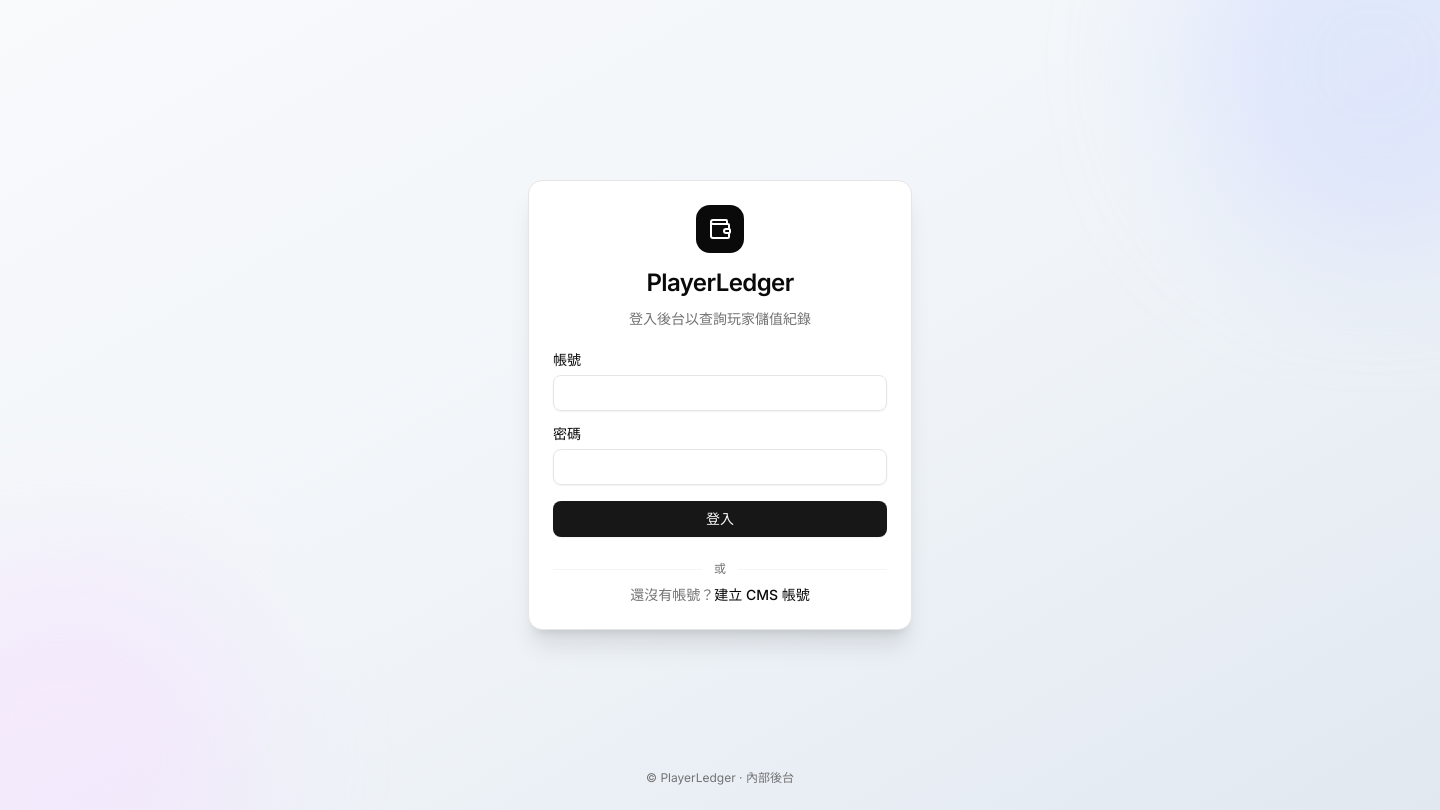
Test case: LoginPage › should render a network-error alert when fetch rejects
The image size is (1440, 810).
In the field labelled "帳號": (720, 393) x1=553 y1=375 x2=887 y2=411, type "alice"
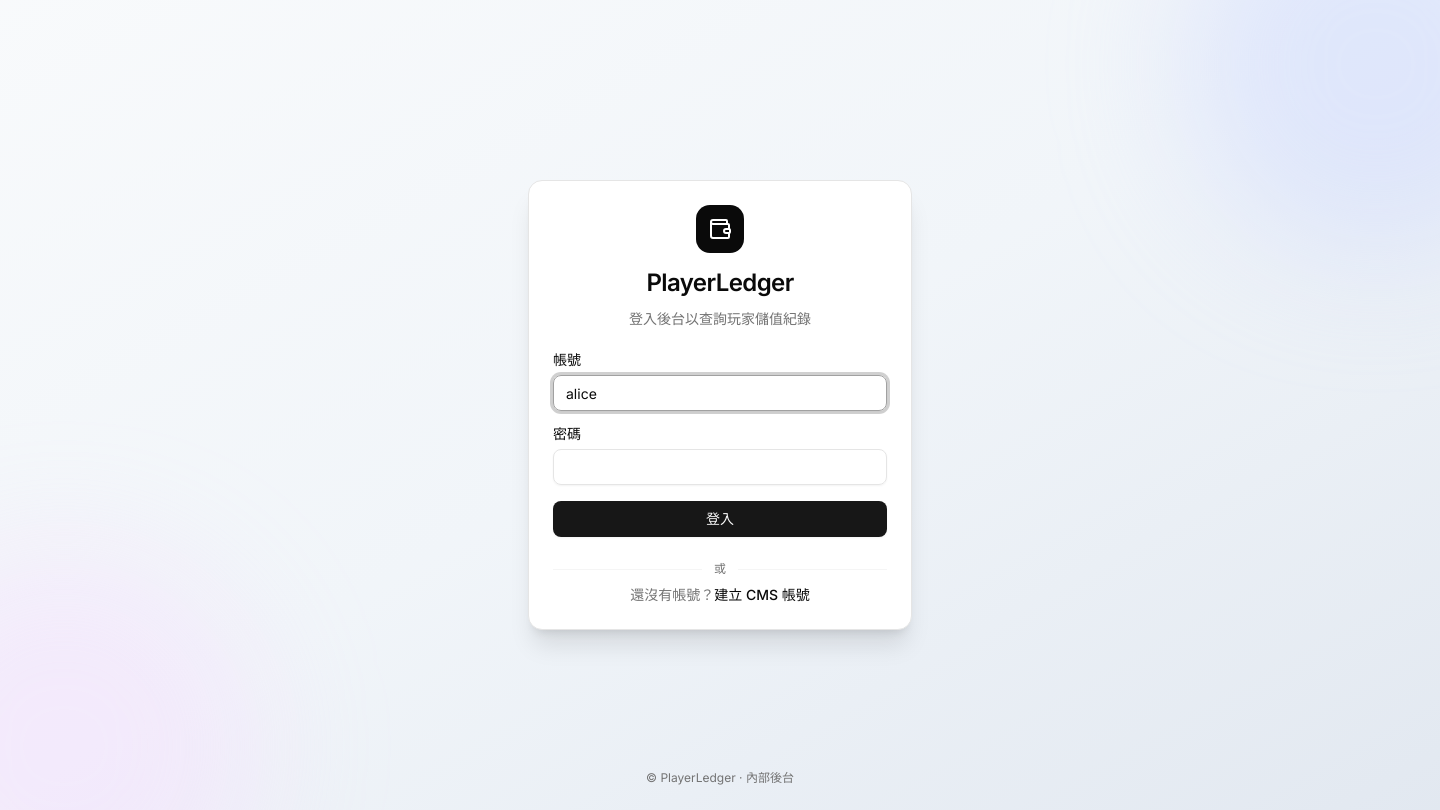
In the password field labelled "密碼": (720, 467) x1=553 y1=449 x2=887 y2=485, type "secret"
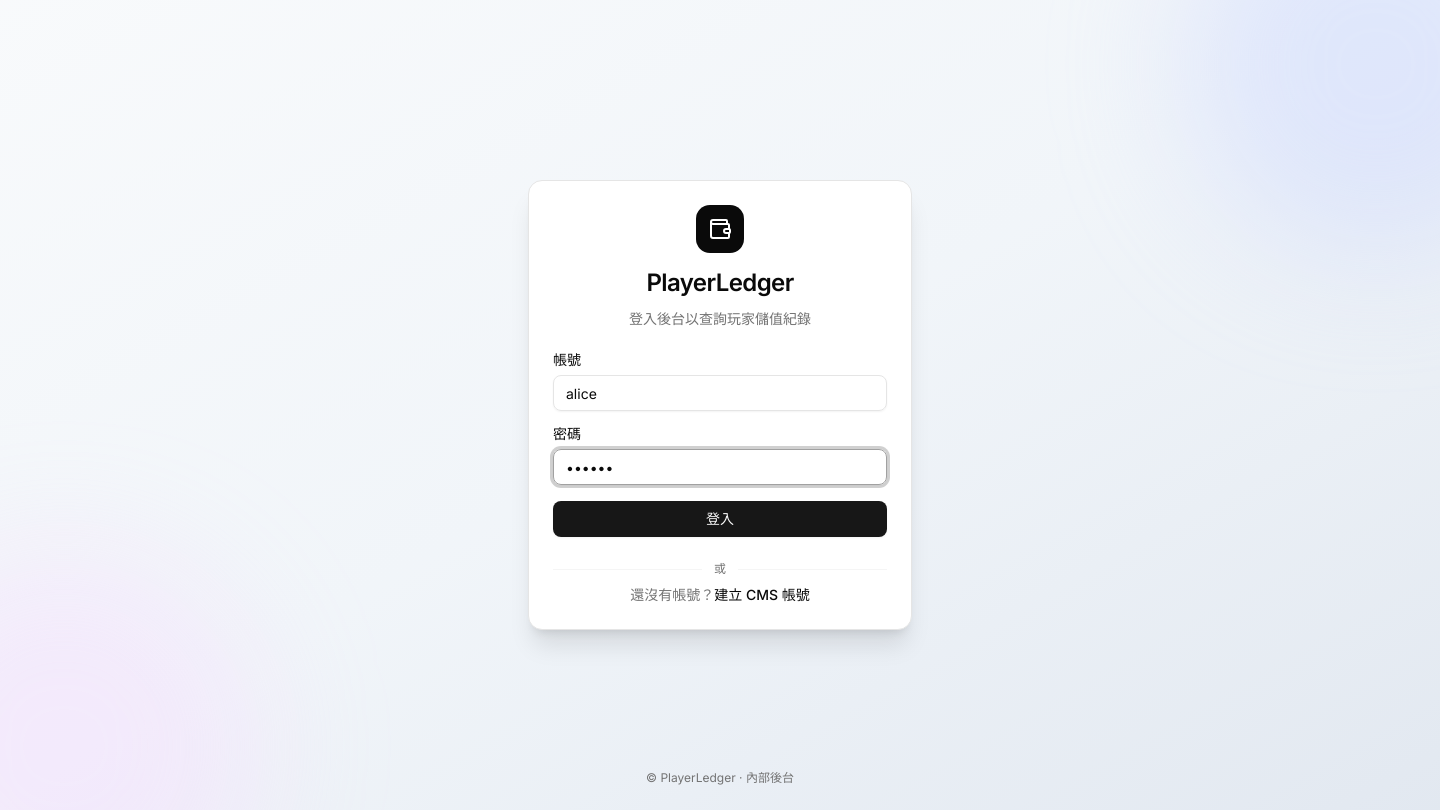
Click the button "登入": (720, 519) x1=553 y1=501 x2=887 y2=537
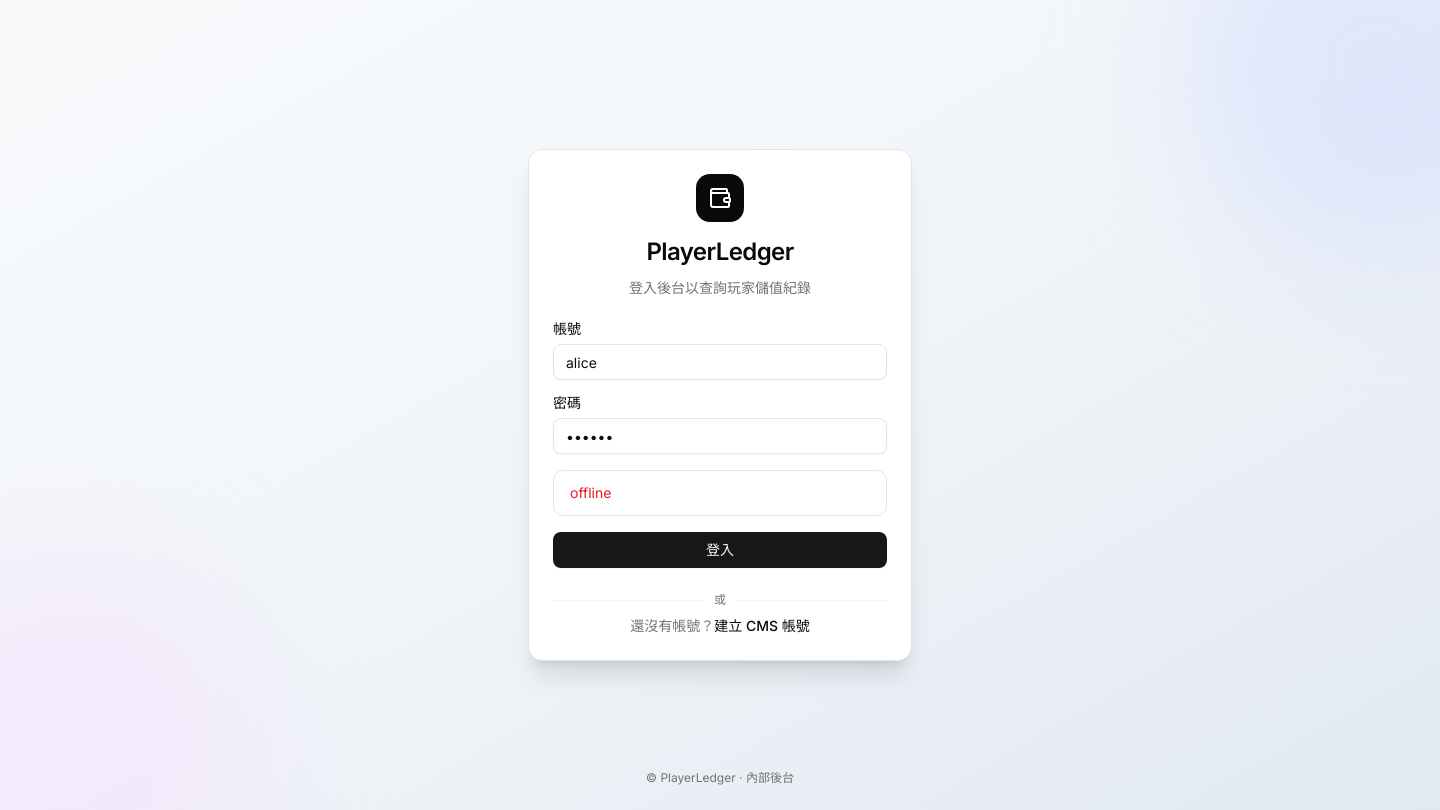
expect the message reads "offline": met, box x1=570 y1=484 x2=611 y2=501
